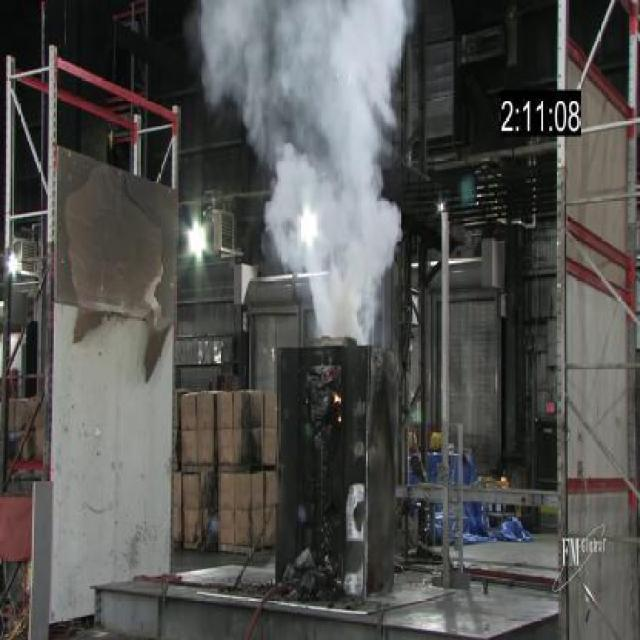fire: (197, 0, 420, 345)
